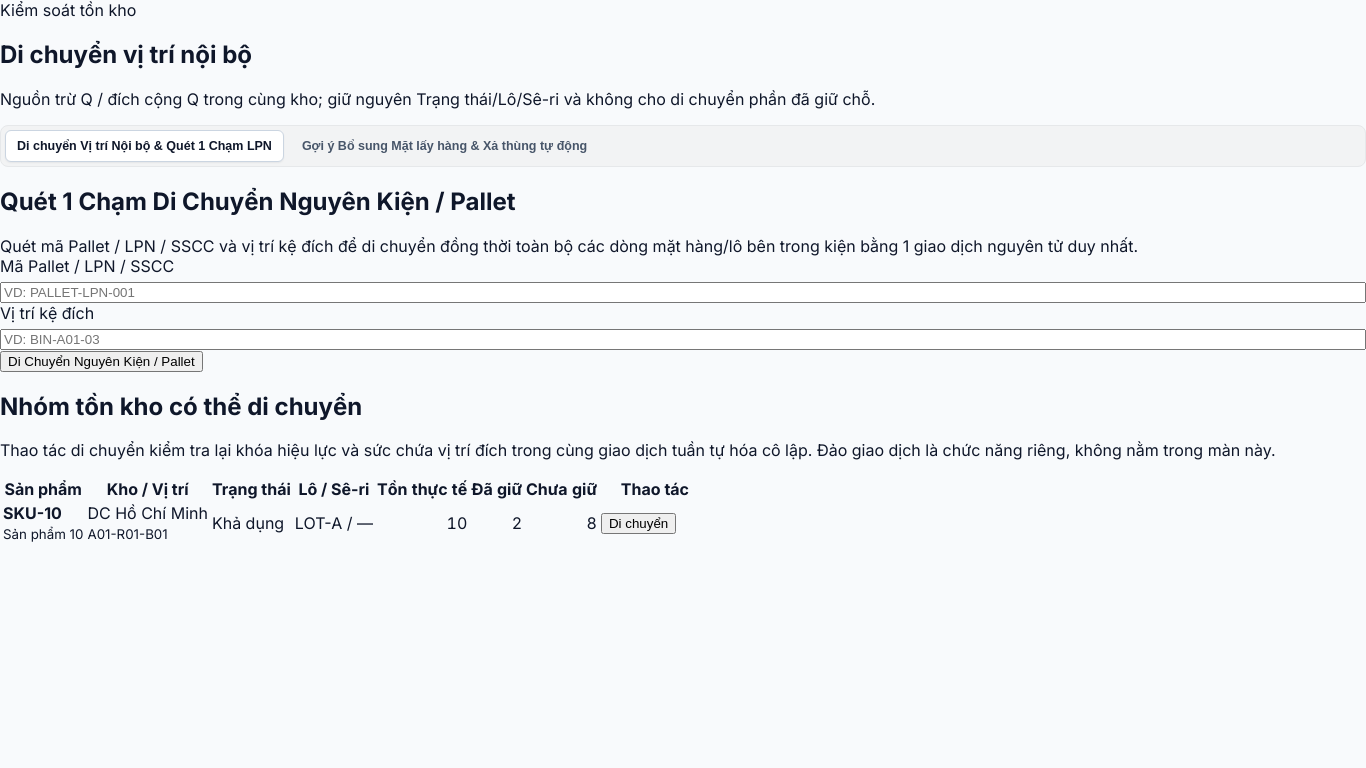
InventoryMovements › maps lock conflict to actionable message
Expected: the text "LOT-A / —" is shown, [294,502,374,544]
Click the button "Di chuyển" at (639, 524), box [601,513,676,534]
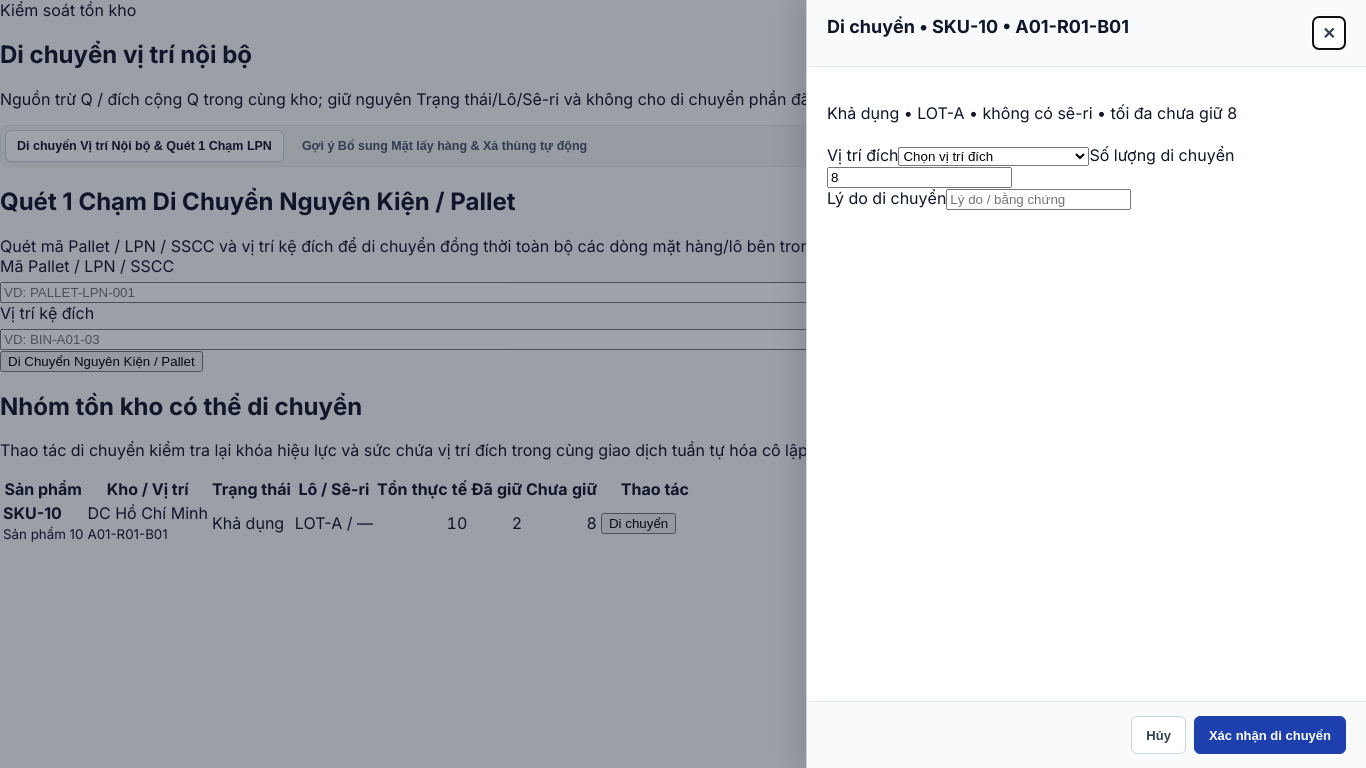
Now the dropdown named "Vị trí đích internal move" is shown
Select "A01-R01-B02 — Destination" in the dropdown named "Vị trí đích internal move" at (994, 156), box [898,147,1090,166]
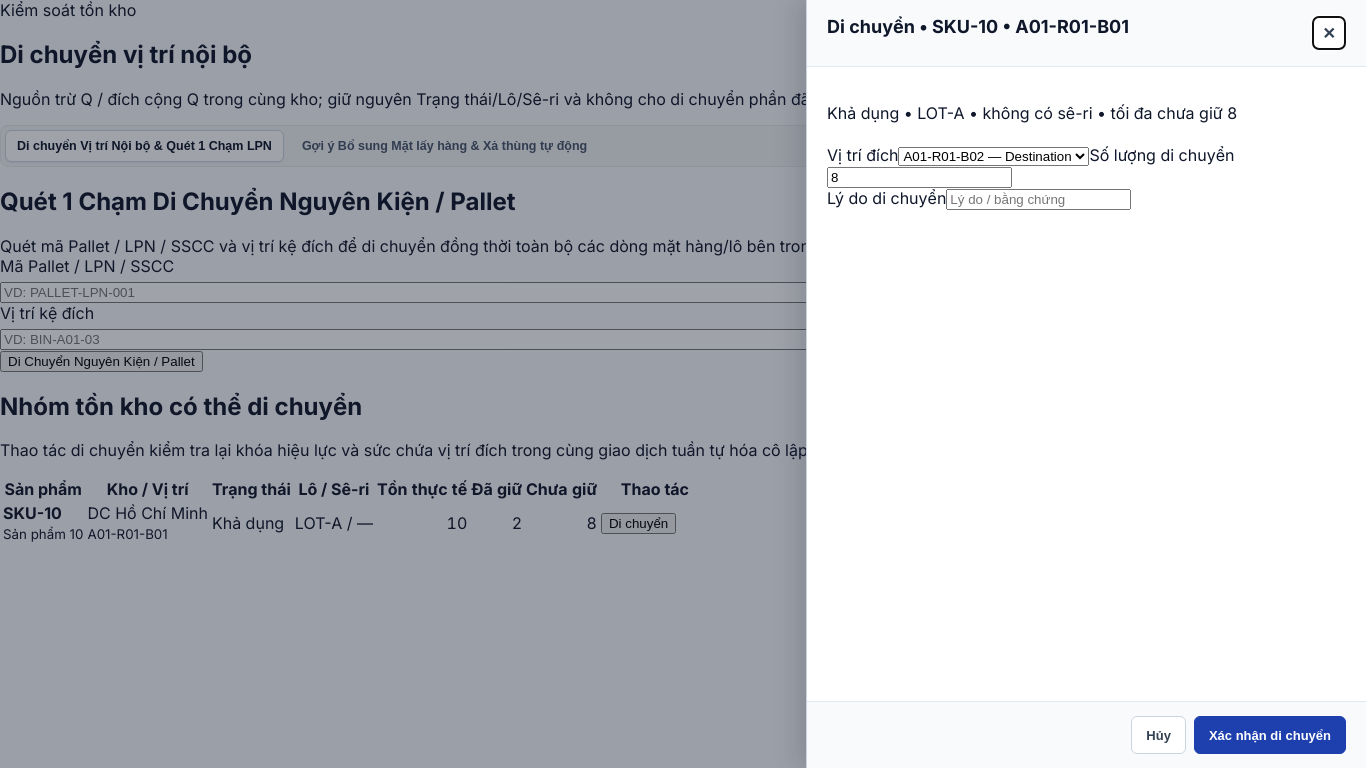
Replace the text in the number field named "Số lượng internal move" with "1" at (920, 178), box [827,167,1012,188]
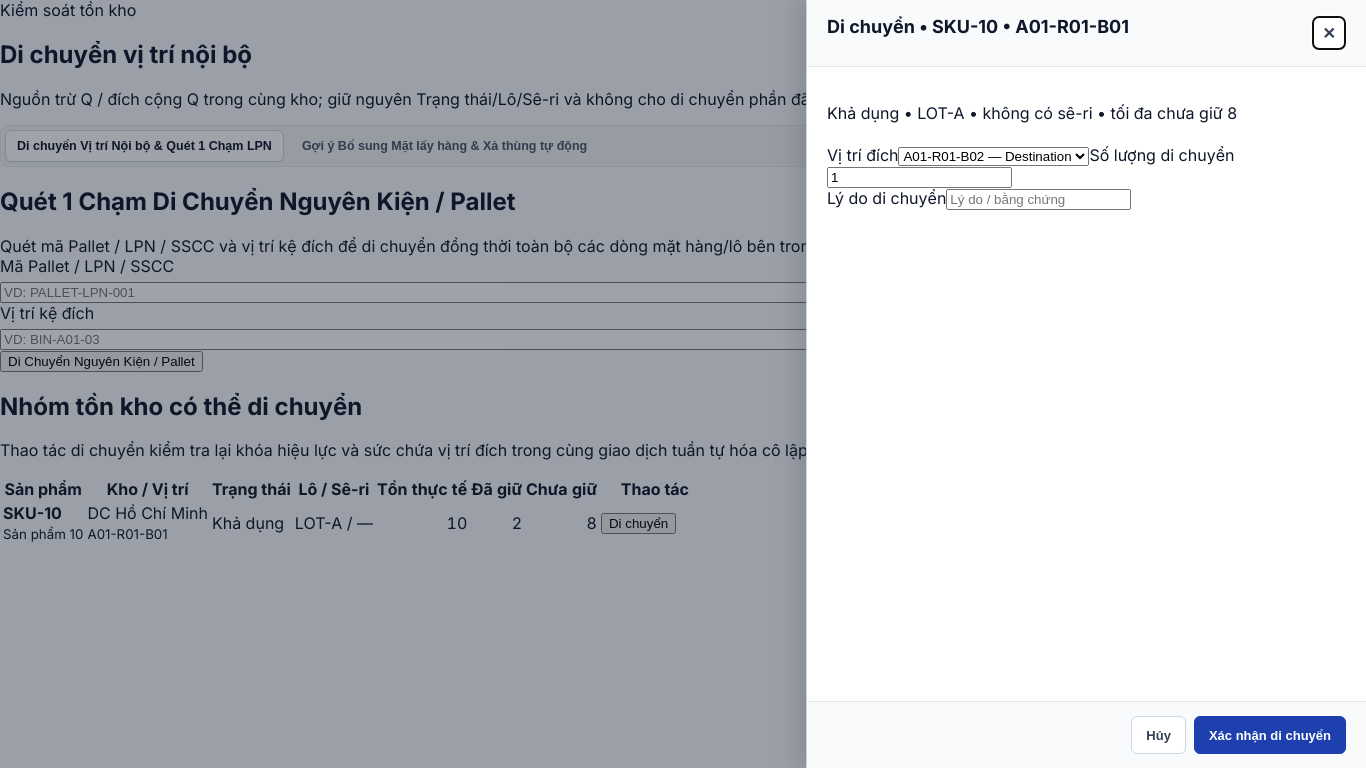
Type "Move blocked" into the field named "Lý do internal move" at (1039, 200), box [946,189,1131,210]
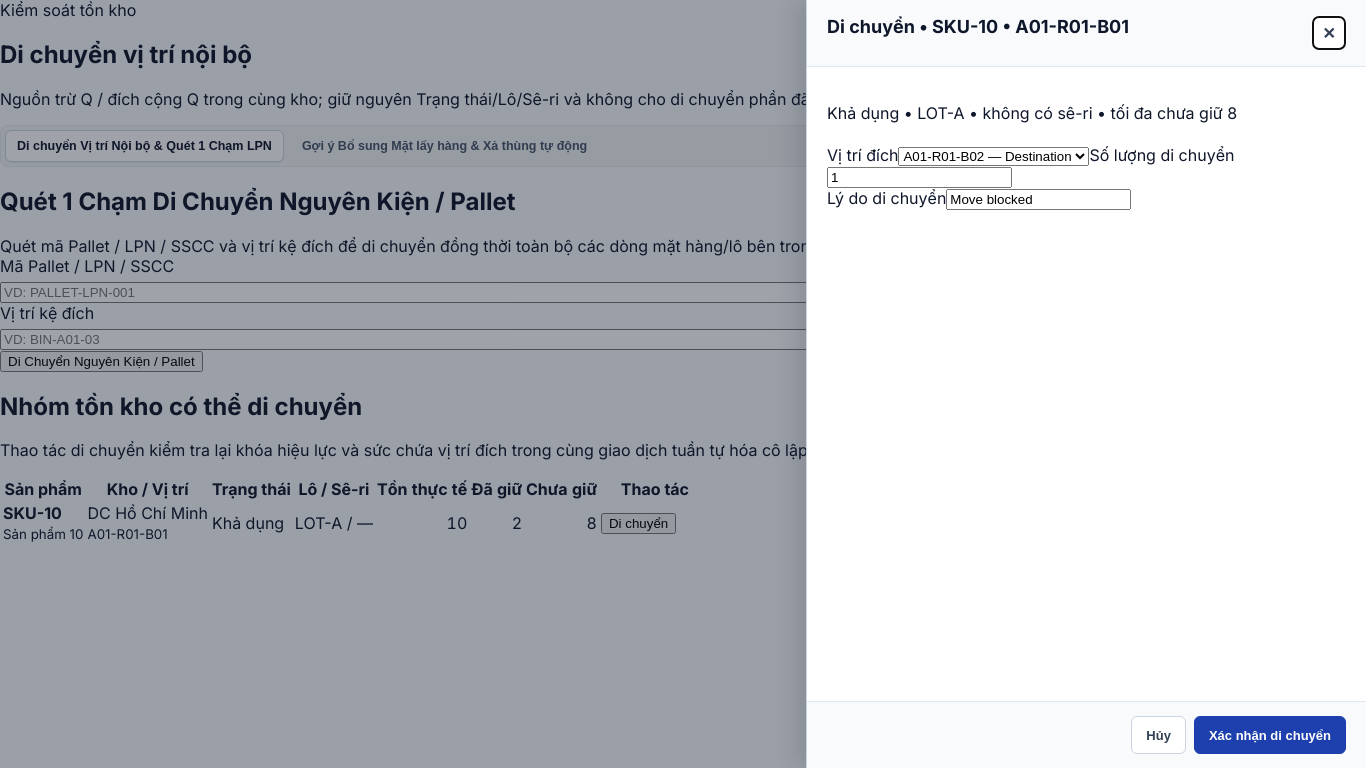
Click the button "Xác nhận di chuyển" at (1270, 735), box [1194,716,1346,754]
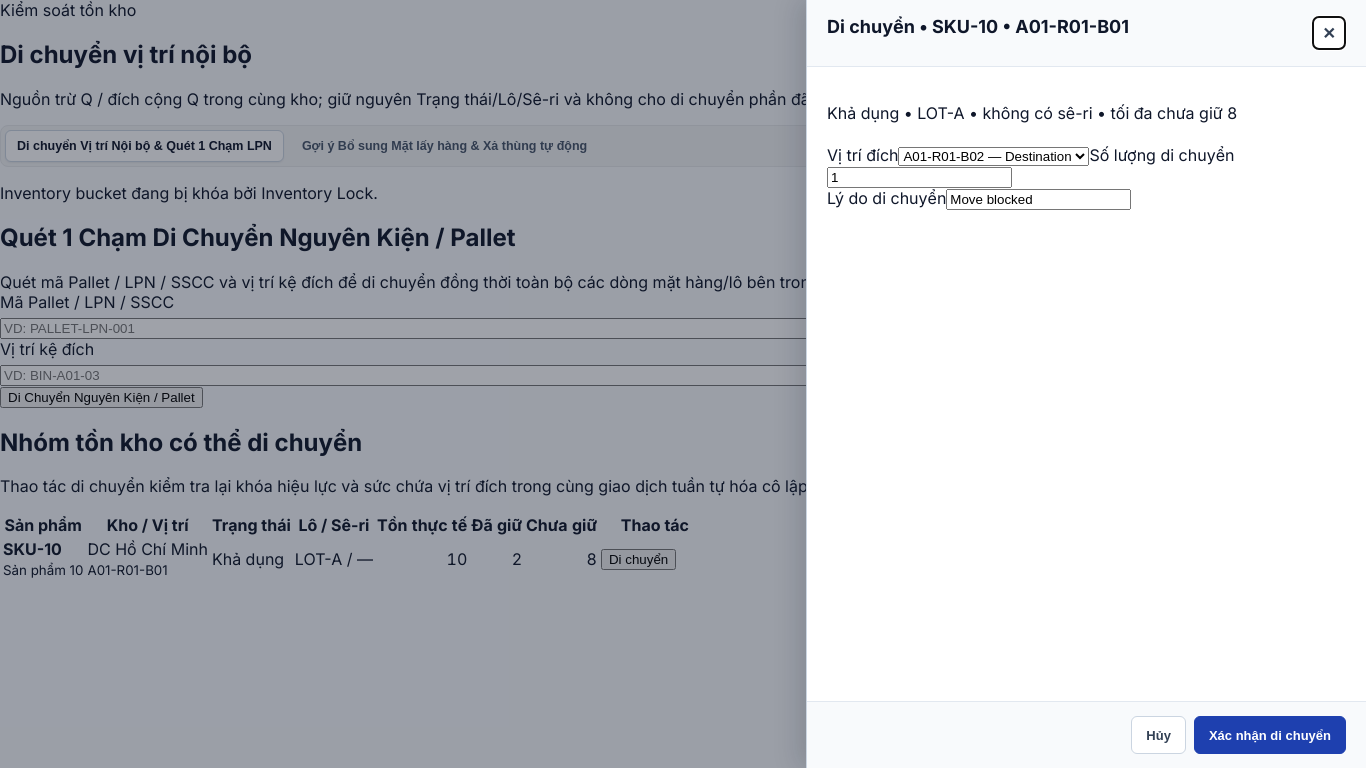
Now the message shows "khóa", box [0,183,378,203]
